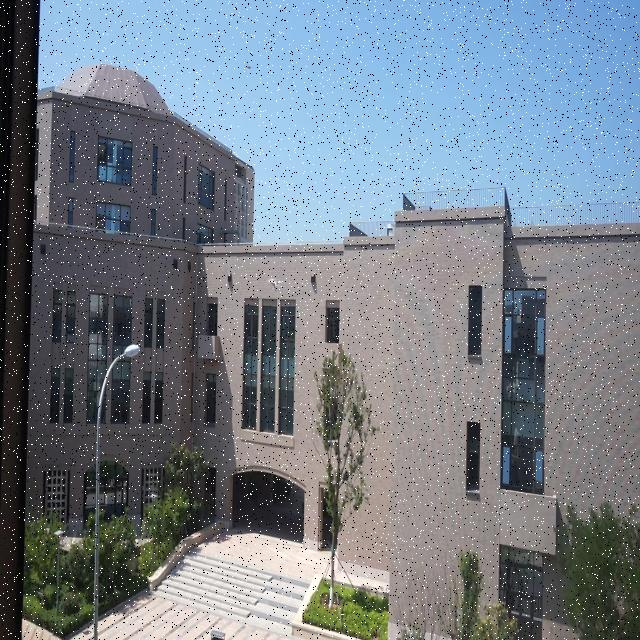UAV: (266, 278, 282, 291)
